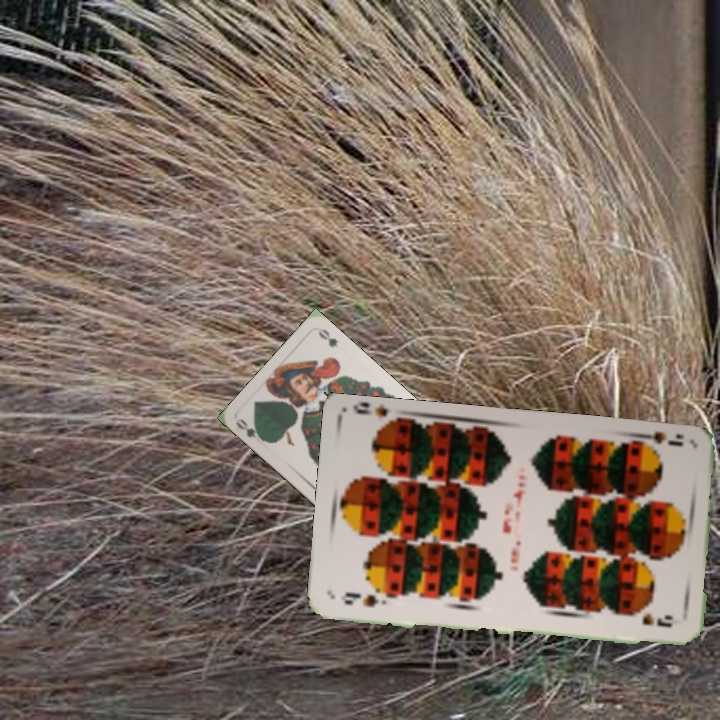GO: (232, 415, 269, 444)
S9: (636, 427, 686, 454), (336, 588, 381, 610)
